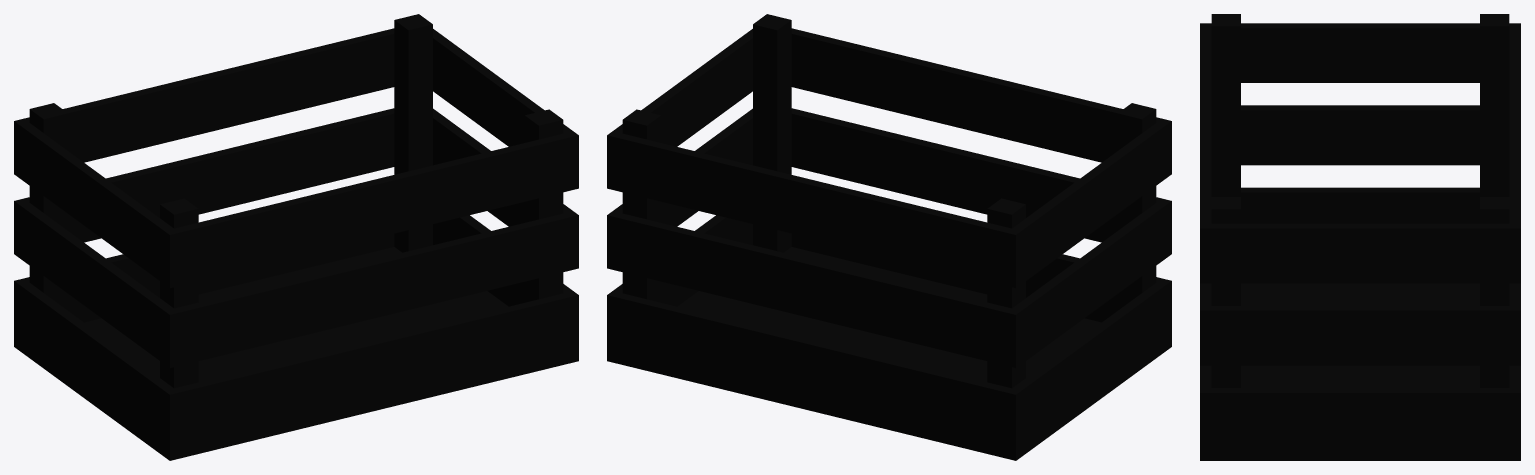
File: SM_crate_fruit.fbx
The picture shows the model from 3 angles, left to right: view 1: azimuth 30°, elevation 25°; view 2: azimuth 150°, elevation 25°; view 3: azimuth 270°, elevation 25°; orthographic projection. The views are drawn at different scales.
Parts seen in each view (by area): view 1: crate_fruit; view 2: crate_fruit; view 3: crate_fruit.
Part boxes in pixels (left/top/right/bottom): crate_fruit: left=14, top=14, right=578, bottom=460; crate_fruit: left=607, top=14, right=1171, bottom=460; crate_fruit: left=1200, top=14, right=1520, bottom=460.
Size of the model in its own units: 0.5 by 0.28 by 0.33.
